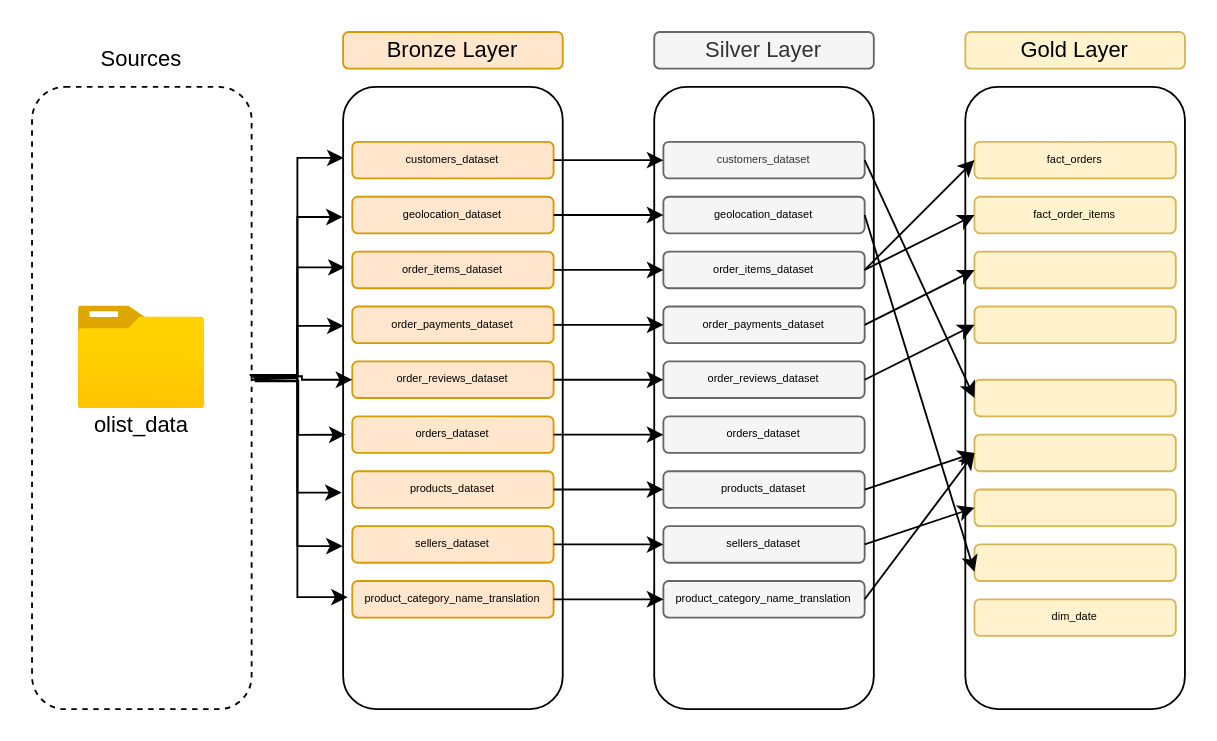
Image size: 1217x741. Some labels were removed from this diagram. The box of each missing label's shape, as (x1, y1, x2, y2) in pixels:
dim_customers: (973, 378, 1176, 416)
dim_geolgraphy: (973, 543, 1176, 581)
dim_products: (973, 433, 1176, 471)
dim_sellers: (973, 488, 1176, 526)
fact_payments: (973, 250, 1176, 288)
fact_reviews: (973, 305, 1176, 343)
